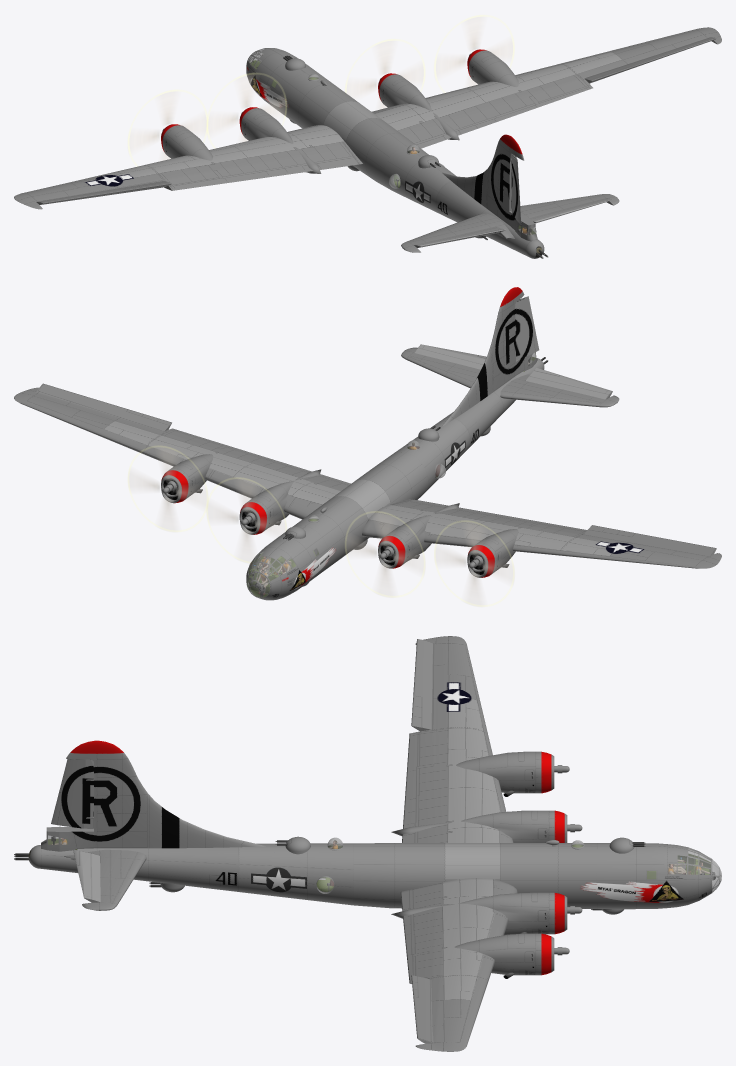
The model's file is b29_flyt_6bg_npa42c.glb.
3 views of the same model, one above another, from view 1: azimuth 30°, elevation 25°; view 2: azimuth 150°, elevation 25°; view 3: azimuth 270°, elevation 25° (orthographic). The views are drawn at different scales.
Visible parts, largest first — view 1: WingR, WingL, fuse2, tail_vert, fuse3, tail_horz, fuse1, fuse4, prop2, prop1, engine4, prop3 (+9 smaller); view 2: WingR, WingL, fuse2, tail_vert, tail_horz, fuse1, fuse3, prop3, prop1, prop2, tail_elevator, prop4 (+9 smaller); view 3: WingL, fuse2, WingR, tail_vert, fuse1, fuse3, fuse4, engine4, engine2, engine1, engine3, tail_rudder (+6 smaller).
Part boxes in pixels (x1,y1,x2,y2): WingR: [371, 27, 721, 148]; WingL: [14, 125, 362, 209]; fuse2: [282, 72, 418, 189]; tail_vert: [442, 134, 537, 241]; fuse3: [383, 145, 456, 214]; tail_horz: [401, 194, 619, 252]; fuse1: [246, 48, 319, 117]; fuse4: [436, 181, 538, 256]; prop2: [434, 15, 514, 92]; prop1: [128, 90, 207, 165]; engine4: [378, 73, 459, 140]; prop3: [207, 73, 286, 147]; WingR: [14, 387, 350, 519]; WingL: [362, 499, 721, 568]; fuse2: [292, 452, 427, 570]; tail_vert: [442, 287, 537, 426]; tail_horz: [401, 347, 619, 407]; fuse1: [246, 525, 329, 600]; fuse3: [393, 417, 470, 492]; prop3: [345, 511, 425, 597]; prop1: [434, 520, 514, 606]; prop2: [128, 446, 207, 531]; tail_elevator: [414, 344, 612, 399]; prop4: [207, 477, 286, 563]; WingL: [402, 636, 513, 842]; fuse2: [353, 843, 597, 908]; WingR: [400, 878, 517, 1051]; tail_vert: [41, 740, 265, 851]; fuse1: [597, 843, 712, 909]; fuse3: [238, 843, 353, 905]; fuse4: [40, 845, 238, 891]; engine4: [391, 892, 567, 935]; engine2: [454, 933, 554, 975]; engine1: [456, 751, 554, 793]; engine3: [391, 810, 567, 842]; tail_rudder: [51, 759, 93, 828].
Size of the model in its own units: 141 by 28.65 by 102.
37 materials, 26 textured.
